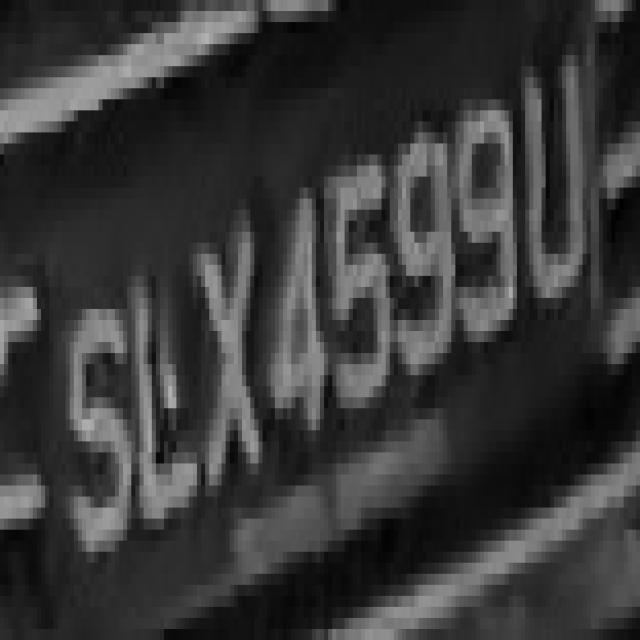4: (275, 165, 328, 486)
5: (320, 144, 398, 442)
9: (435, 66, 521, 364), (386, 122, 464, 430)
L: (123, 243, 201, 552)
S: (54, 265, 132, 574)
U: (512, 22, 586, 298)
X: (192, 188, 266, 540)
